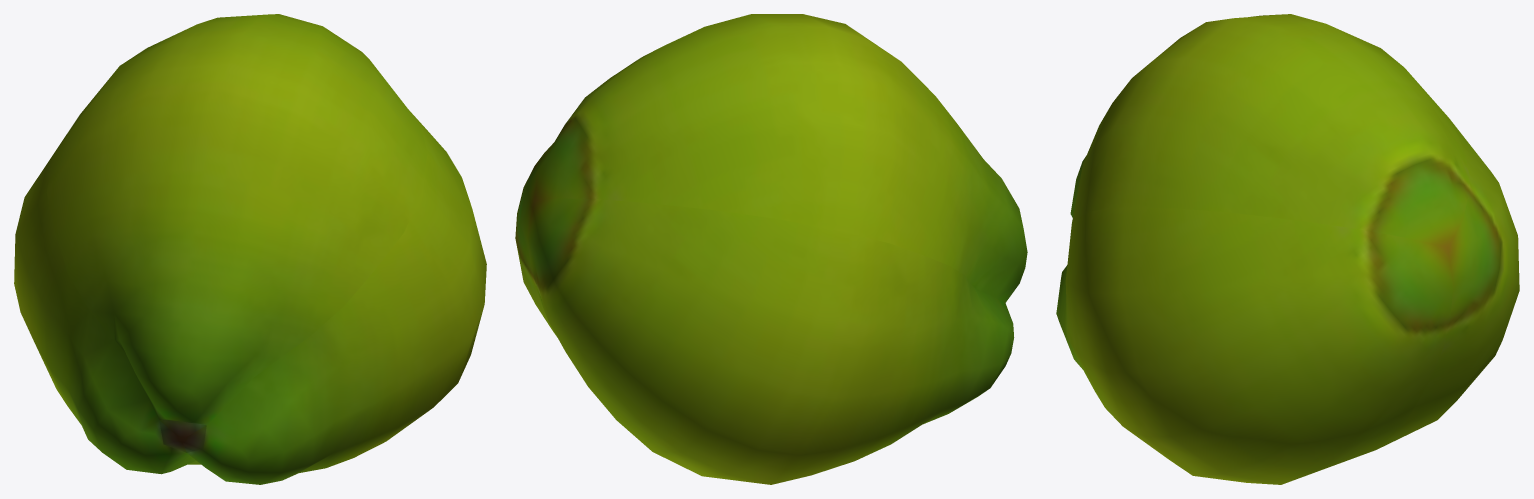
Rendered from coconut.glb.
The picture shows the model from 3 angles, left to right: view 1: azimuth 30°, elevation 25°; view 2: azimuth 150°, elevation 25°; view 3: azimuth 270°, elevation 25°; orthographic projection.
Bounding box in the file's own units: 4.49 × 4.48 × 4.49.
Materials: 1 (1 with a texture image).
